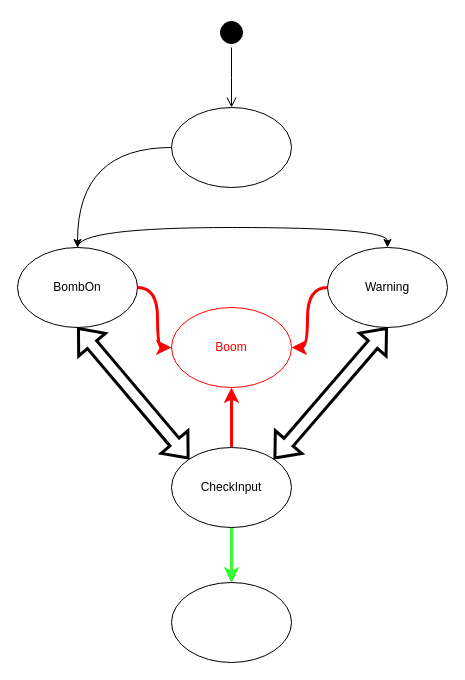
This 465x680 diagram has some shape labels left out. The box of each missing label's shape, as (x1, y1, x2, y2) in pixels:
Create Code: (170, 106, 292, 188)
Success: (170, 582, 292, 662)
